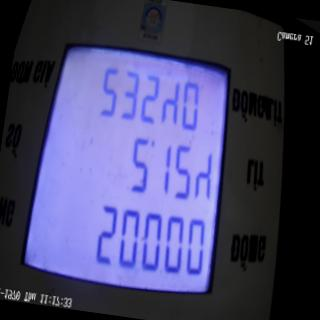screen: (11, 14, 249, 320)
